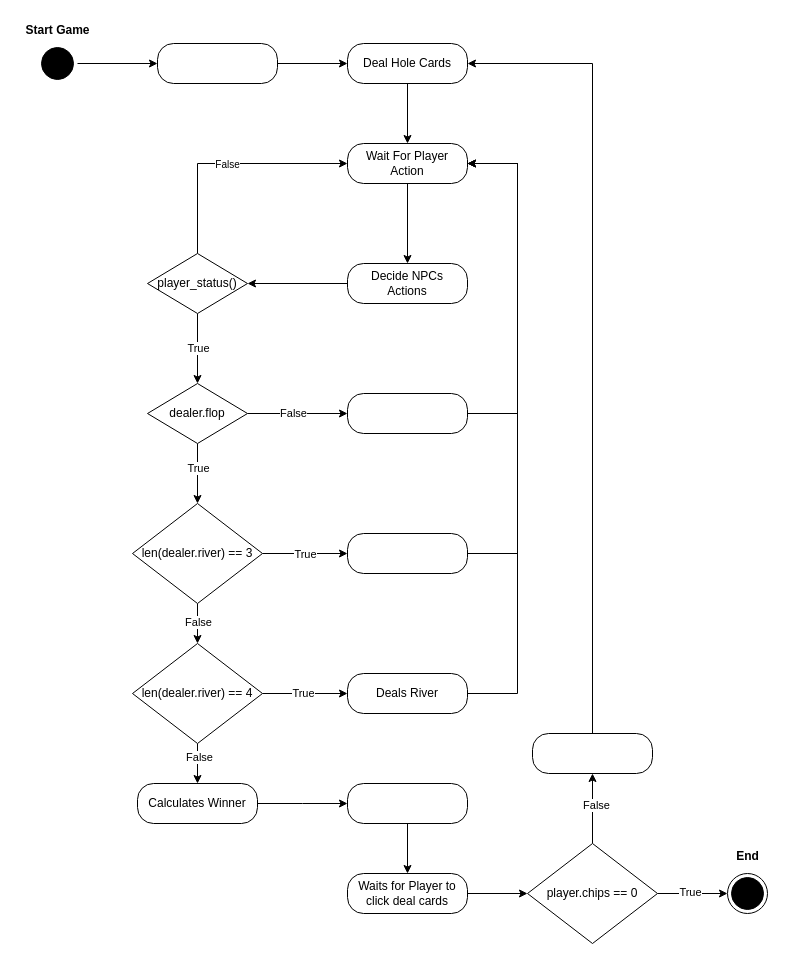
The diagram is 804 pixels wide and 961 high, and some of its shapes have lost their labels. Here are the shapes that lost their labels. From the top down, the centre of each, then its label:
At (x=217, y=63): "Create Poker Game".
At (x=407, y=413): "Deals Flop".
At (x=407, y=553): "Deals Turn".
At (x=592, y=753): "Checks for NPCs to remove".
At (x=407, y=803): "Pays Winners".
